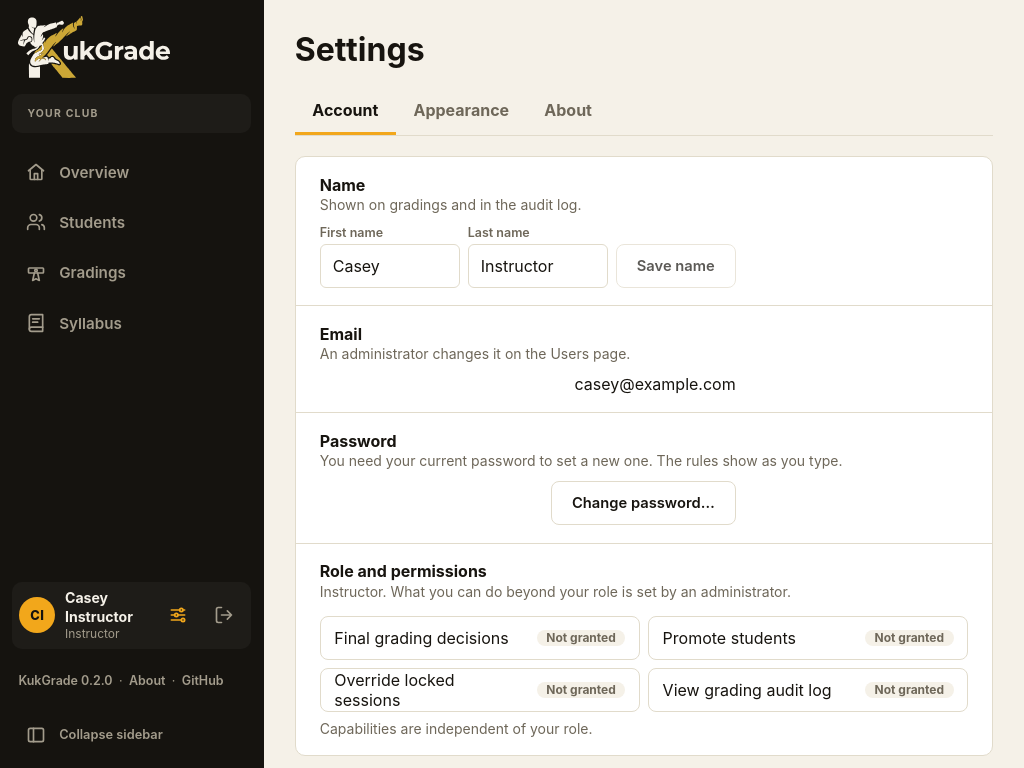
Settings: Account › keeps what you typed, with the server's message, when saving the name fails
The width and height of the screenshot is (1024, 768).
Type "x" into the field labelled "Last name" at (538, 266), box x1=468 y1=244 x2=608 y2=288
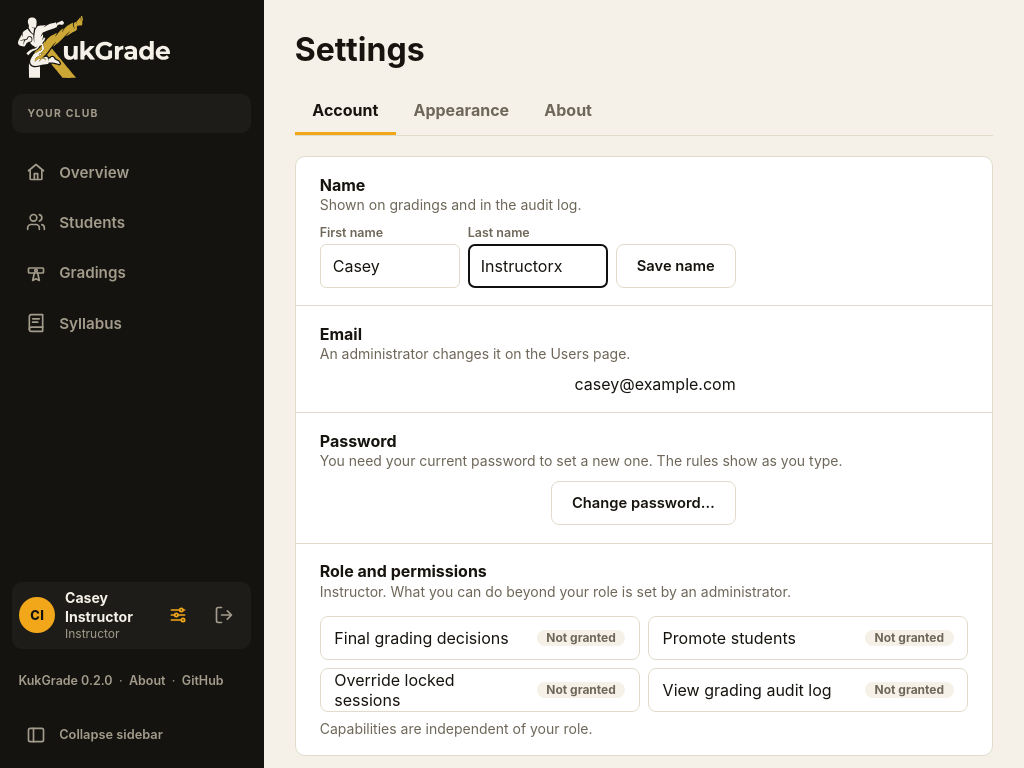
Click the button "Save name" at (676, 266), box x1=616 y1=244 x2=736 y2=288
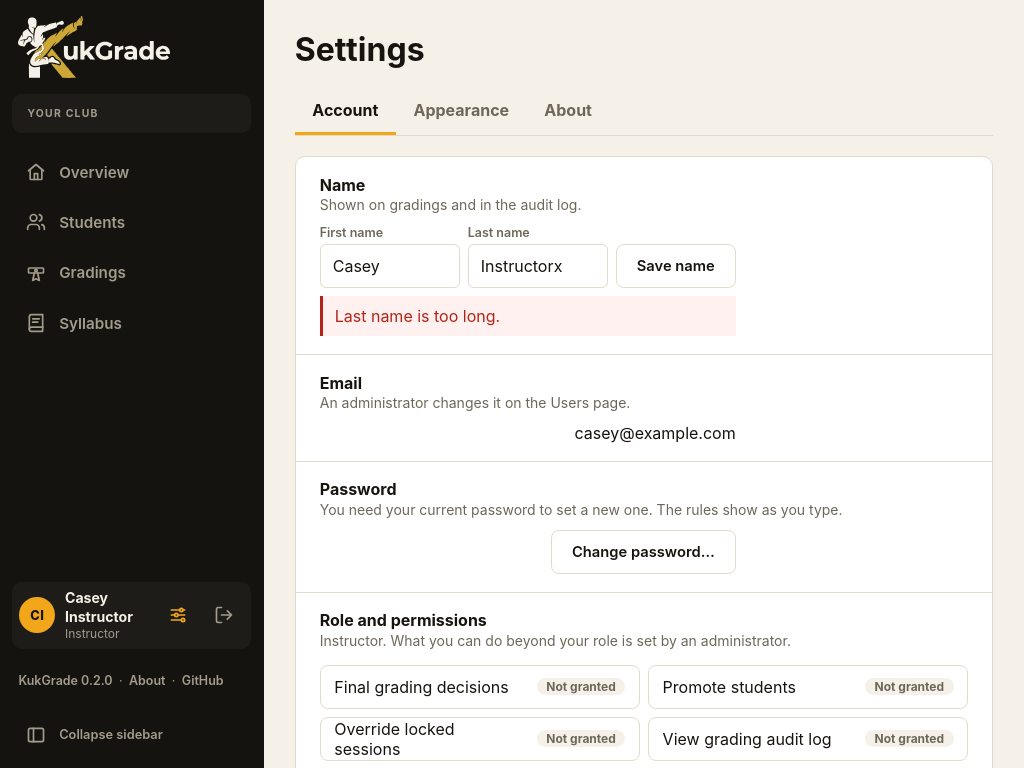
Expected: the field labelled "Last name" holds "Instructorx", x1=468 y1=244 x2=608 y2=288
Expected: the button "Save name" is enabled, x1=616 y1=244 x2=736 y2=288
Expected: the message reads "Last name is too long.", x1=335 y1=306 x2=500 y2=326
